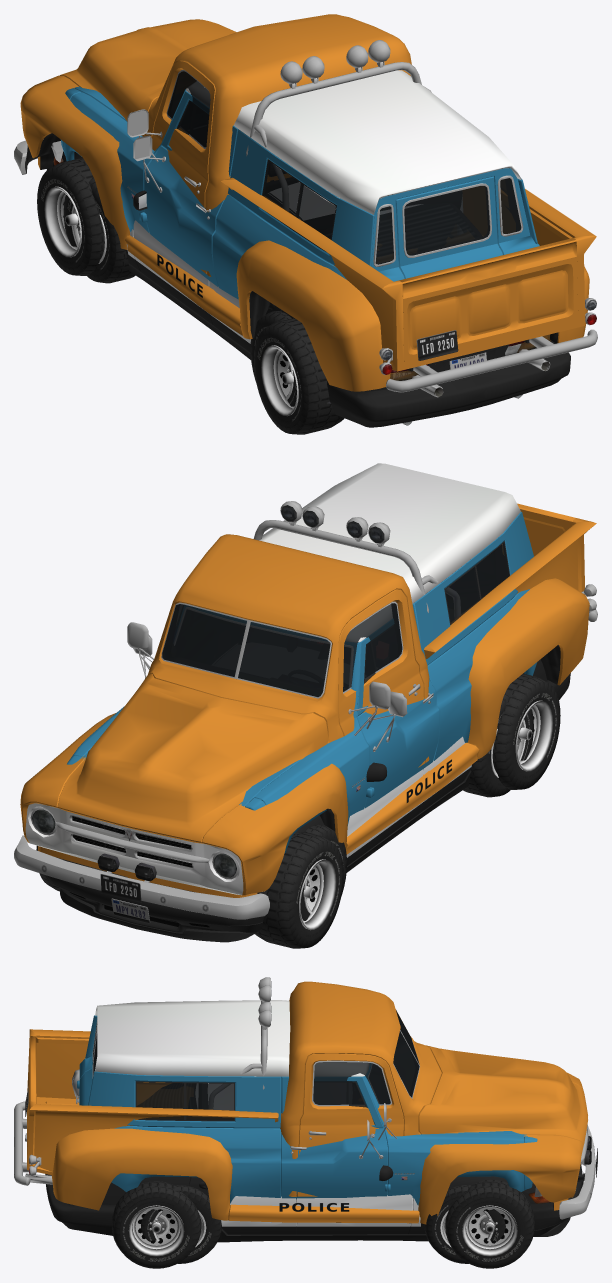
The model's file is vehicles.glb.
3 renders of one model, top to bottom at view 1: azimuth 30°, elevation 25°; view 2: azimuth 150°, elevation 25°; view 3: azimuth 270°, elevation 25°, orthographic. The views are drawn at different scales.
Parts seen in each view (by area): view 1: Rancher50_Body_RNCHR50CSTM_Bodymat_0, Bokaroo67_Body_BUCKAROO_67_Bodymat_0, Bokaroo67_Bottom_UCB_BOTTOM_0, Rancher50_Trunkdoor_RNCHR50CSTM_Bodymat_0, wheel-FL-mesh (×2), Rancher50_Hood_RNCHR50CSTM_Bodymat_0, wheel-RL-mesh (×2), Murphy92_Bumper_rear_Murphy92_Bodymat_0, Murphy92_Body_Murphy92_Bodymat_0, Bokaroo67_Bodyglass_UCB_Lights_and_Glass_Transperent_0, Bokaroo67_rear_door_glass_UCB_Lights_and_Glass_Transperent_0, Rancher50_ExtraA_UCB_BOTTOM_0 (+8 smaller); view 2: Rancher50_Body_RNCHR50CSTM_Bodymat_0, Rancher50_Hood_RNCHR50CSTM_Bodymat_0, Bokaroo67_Body_BUCKAROO_67_Bodymat_0, Bokaroo67_Bottom_UCB_BOTTOM_0, Rancher50_Bottom_UCB_BOTTOM_0, Rancher50_Windshield_UCB_Lights_and_Glass_Transperent_0, wheel-FL-mesh (×2), wheel-RL-mesh (×2), Bokaroo67_Windshield_UCB_Lights_and_Glass_Transperent_0, Rancher50_Bumper_front_B_UCB_BOTTOM_0, Murphy92_Bumper_Front_Murphy92_Bodymat_0, Murphy92_Body_Murphy92_Bodymat_0 (+11 smaller); view 3: Rancher50_Body_RNCHR50CSTM_Bodymat_0, Bokaroo67_Body_BUCKAROO_67_Bodymat_0, Bokaroo67_Bottom_UCB_BOTTOM_0, Rancher50_Hood_RNCHR50CSTM_Bodymat_0, Murphy92_Body_Murphy92_Bodymat_0, wheel-RR-mesh (×2), wheel-FR-mesh (×2), Bokaroo67_Bodyglass_UCB_Lights_and_Glass_Transperent_0, Rancher50_Glass_Passangers_UCB_Lights_and_Glass_Transperent_, Murphy92_Bumper_rear_Murphy92_Bodymat_0, Rancher50_Bumper_front_B_UCB_BOTTOM_0, Rancher50_Bottom_UCB_BOTTOM_0 (+8 smaller).
Part boxes in pixels (bbox=[...]): Rancher50_Body_RNCHR50CSTM_Bodymat_0: bbox=[20, 14, 596, 391]; Bokaroo67_Body_BUCKAROO_67_Bodymat_0: bbox=[60, 88, 539, 302]; Bokaroo67_Bottom_UCB_BOTTOM_0: bbox=[74, 70, 523, 404]; Rancher50_Trunkdoor_RNCHR50CSTM_Bodymat_0: bbox=[399, 238, 578, 365]; wheel-FL-mesh (×2): bbox=[37, 158, 135, 283]; Rancher50_Hood_RNCHR50CSTM_Bodymat_0: bbox=[60, 19, 236, 136]; wheel-RL-mesh (×2): bbox=[250, 311, 344, 434]; Murphy92_Bumper_rear_Murphy92_Bodymat_0: bbox=[327, 352, 570, 427]; Murphy92_Body_Murphy92_Bodymat_0: bbox=[62, 151, 555, 391]; Bokaroo67_Bodyglass_UCB_Lights_and_Glass_Transperent_0: bbox=[177, 102, 520, 264]; Bokaroo67_rear_door_glass_UCB_Lights_and_Glass_Transperent_0: bbox=[404, 186, 489, 255]; Rancher50_ExtraA_UCB_BOTTOM_0: bbox=[246, 40, 462, 211]; Rancher50_Body_RNCHR50CSTM_Bodymat_0: bbox=[20, 518, 596, 897]; Rancher50_Hood_RNCHR50CSTM_Bodymat_0: bbox=[57, 673, 328, 842]; Bokaroo67_Body_BUCKAROO_67_Bodymat_0: bbox=[67, 511, 537, 853]; Bokaroo67_Bottom_UCB_BOTTOM_0: bbox=[133, 463, 524, 800]; Rancher50_Bottom_UCB_BOTTOM_0: bbox=[25, 584, 596, 895]; Rancher50_Windshield_UCB_Lights_and_Glass_Transperent_0: bbox=[162, 604, 330, 696]; wheel-FL-mesh (×2): bbox=[255, 824, 346, 948]; wheel-RL-mesh (×2): bbox=[463, 673, 560, 797]; Bokaroo67_Windshield_UCB_Lights_and_Glass_Transperent_0: bbox=[175, 610, 350, 690]; Rancher50_Bumper_front_B_UCB_BOTTOM_0: bbox=[14, 835, 269, 919]; Murphy92_Bumper_Front_Murphy92_Bodymat_0: bbox=[47, 875, 266, 942]; Murphy92_Body_Murphy92_Bodymat_0: bbox=[295, 659, 547, 872]; Rancher50_Body_RNCHR50CSTM_Bodymat_0: bbox=[27, 981, 583, 1224]; Bokaroo67_Body_BUCKAROO_67_Bodymat_0: bbox=[77, 1015, 537, 1205]; Bokaroo67_Bottom_UCB_BOTTOM_0: bbox=[72, 1000, 383, 1229]; Rancher50_Hood_RNCHR50CSTM_Bodymat_0: bbox=[418, 1045, 587, 1145]; Murphy92_Body_Murphy92_Bodymat_0: bbox=[102, 1076, 536, 1242]; wheel-RR-mesh (×2): bbox=[112, 1181, 221, 1268]; wheel-FR-mesh (×2): bbox=[424, 1179, 534, 1268]; Bokaroo67_Bodyglass_UCB_Lights_and_Glass_Transperent_0: bbox=[93, 1024, 365, 1120]; Rancher50_Glass_Passangers_UCB_Lights_and_Glass_Transperent_: bbox=[313, 1062, 390, 1104]; Murphy92_Bumper_rear_Murphy92_Bodymat_0: bbox=[45, 1174, 115, 1235]; Rancher50_Bumper_front_B_UCB_BOTTOM_0: bbox=[559, 1125, 595, 1219]; Rancher50_Bottom_UCB_BOTTOM_0: bbox=[25, 1030, 588, 1223].
Bounding box in the file's own units: 2.15 × 2.23 × 5.15.
Materials: 34 (18 with a texture image).
